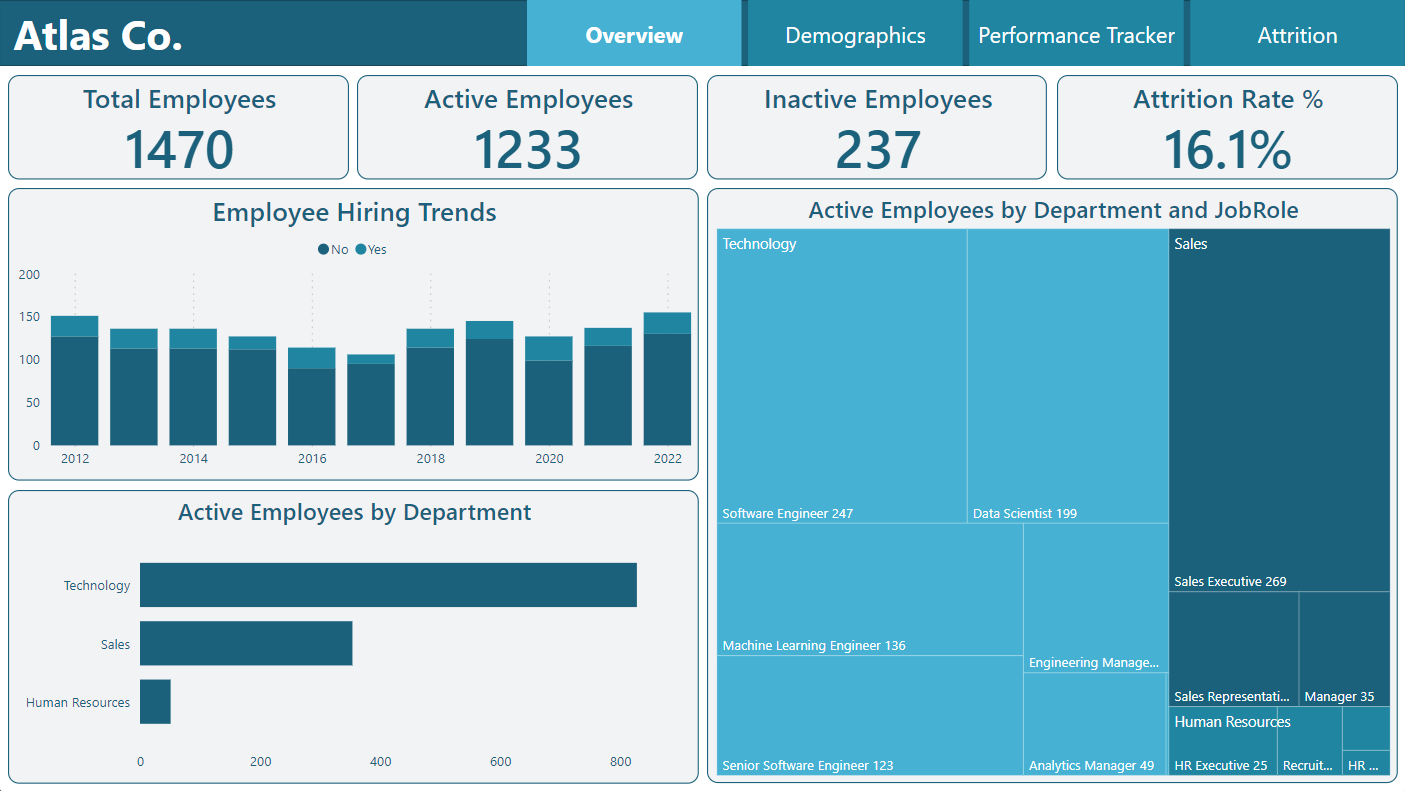

Layout of this report page (visuals, bound fields, positions):
{"tool":"powerbi","page":{"name":"Overview","canvas":[1280,720],"ordinal":0},"visuals":[{"type":"card","title":"Total Employees","fields":{"Values":["_Measures.TotalEmployees"]},"box":[8,68,310,95],"z":0},{"type":"card","title":"Inactive Employees","fields":{"Values":["_Measures.InactiveEmployees"]},"box":[643.7,68.3,309.5,94.9],"z":1000},{"type":"card","title":"Active Employees","fields":{"Values":["_Measures.ActiveEmployees"]},"box":[325.4,68.3,310.3,94.9],"z":2000},{"type":"card","title":"Attrition Rate %","fields":{"Values":["_Measures.% Atrrition Rate"]},"box":[962,68,310,95],"z":3000},{"type":"columnChart","title":"Employee Hiring Trends","fields":{"Y":["_Measures.TotalEmployeesDate"],"Category":["DimDate.Date.Variation.Date Hierarchy.Year","DimDate.Date.Variation.Date Hierarchy.Quarter","DimDate.Date.Variation.Date Hierarchy.Month","DimDate.Date.Variation.Date Hierarchy.Day"],"Series":["DimEmployee.Attrition"]},"box":[8,171,628,266],"z":4000},{"type":"clusteredBarChart","title":"Active Employees by Department","fields":{"Y":["_Measures.ActiveEmployees"],"Category":["DimEmployee.Department"]},"box":[8,445,628,267],"z":5000},{"type":"treemap","title":"Active Employees by Department and JobRole","fields":{"Group":["DimEmployee.Department"],"Values":["_Measures.ActiveEmployees"],"Details":["DimEmployee.JobRole"]},"box":[644,171,628,541],"z":6000},{"type":"shape","box":[0,0,1280,60],"z":7000},{"type":"textbox","box":[0,0,180,60],"z":8000},{"type":"pageNavigator","box":[480,0,800,60],"z":9000}]}

Visuals, with their boxes in screenshot pixels (x1, y1, x2, y2), scaled from the page's 1280x720 canvas onto the 1405x791 screenshot:
"Total Employees" card: x1=9 y1=75 x2=349 y2=179
"Inactive Employees" card: x1=707 y1=75 x2=1046 y2=179
"Active Employees" card: x1=357 y1=75 x2=698 y2=179
"Attrition Rate %" card: x1=1056 y1=75 x2=1396 y2=179
"Employee Hiring Trends" columnChart: x1=9 y1=188 x2=698 y2=480
"Active Employees by Department" clusteredBarChart: x1=9 y1=489 x2=698 y2=782
"Active Employees by Department and JobRole" treemap: x1=707 y1=188 x2=1396 y2=782
shape: x1=0 y1=0 x2=1404 y2=66
textbox: x1=0 y1=0 x2=198 y2=66
pageNavigator: x1=527 y1=0 x2=1404 y2=66
